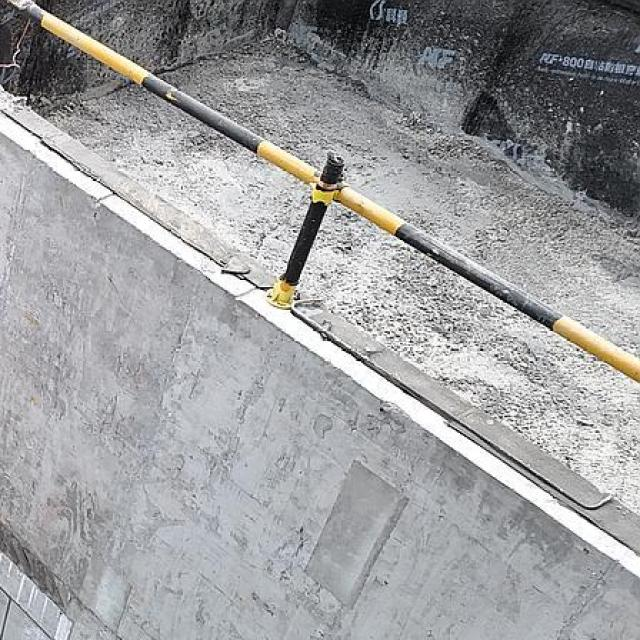edge_guardrail: (0, 0, 640, 391)
